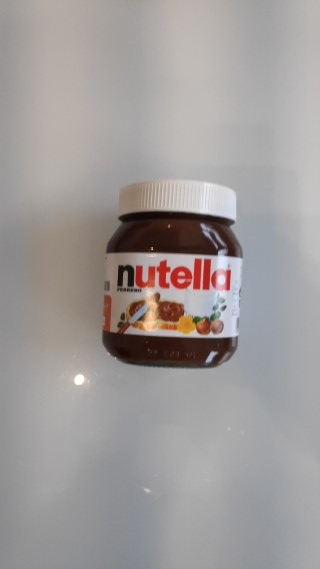nutella: (99, 177, 245, 370)
